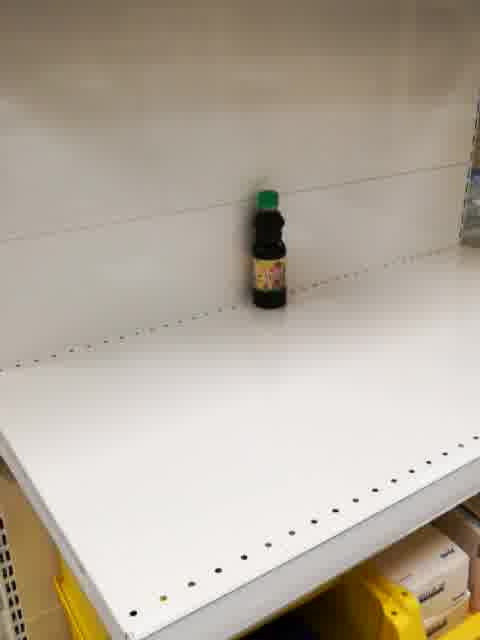cookingoil: (250, 188, 288, 310)
